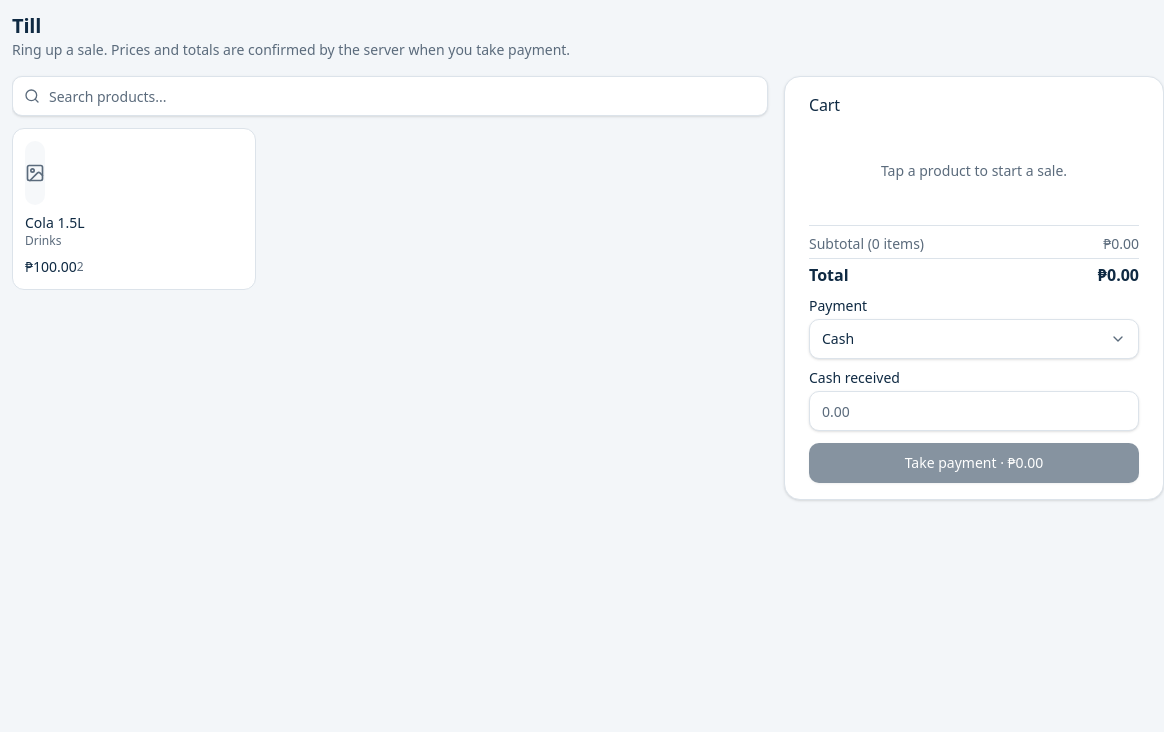
Test: the cart › will not add more than the branch holds
This screenshot has width=1164, height=732.
What coordinates should you click on to do the following:
click the button with aria-label "Add Cola 1.5L"
I would click on:
 (134, 209)
Its box is [12,128,256,290].
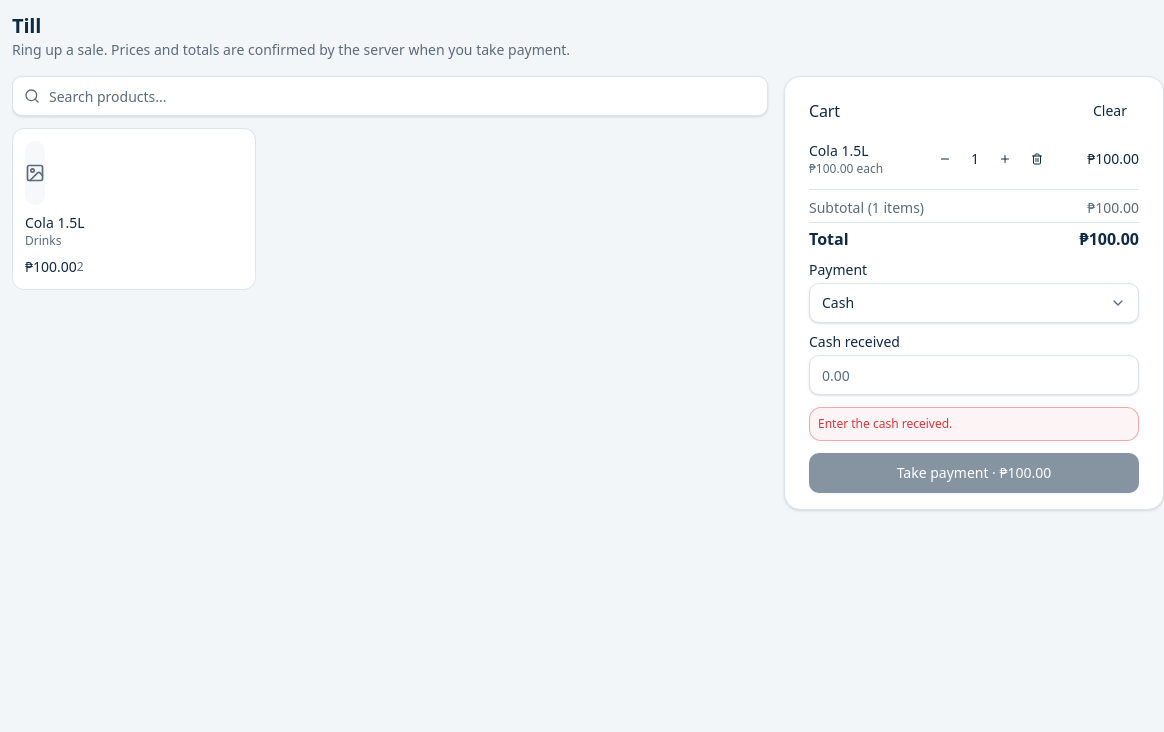
What coordinates should you click on to do the following:
click the button with aria-label "Add Cola 1.5L"
I would click on:
 (134, 209)
Its box is [12,128,256,290].
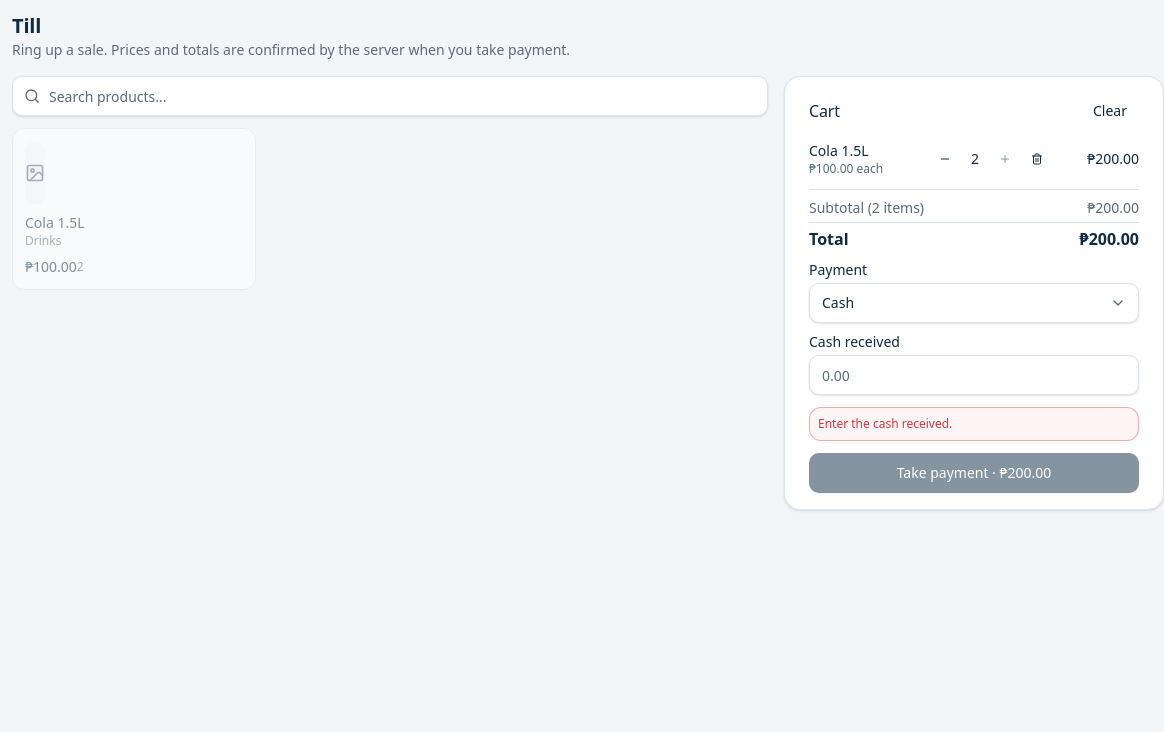
Expected: the button named "One more Cola 1.5L" is disabled, [991,145,1019,173]
Result: the button with aria-label "Add Cola 1.5L" is disabled at [12,128,256,290]
